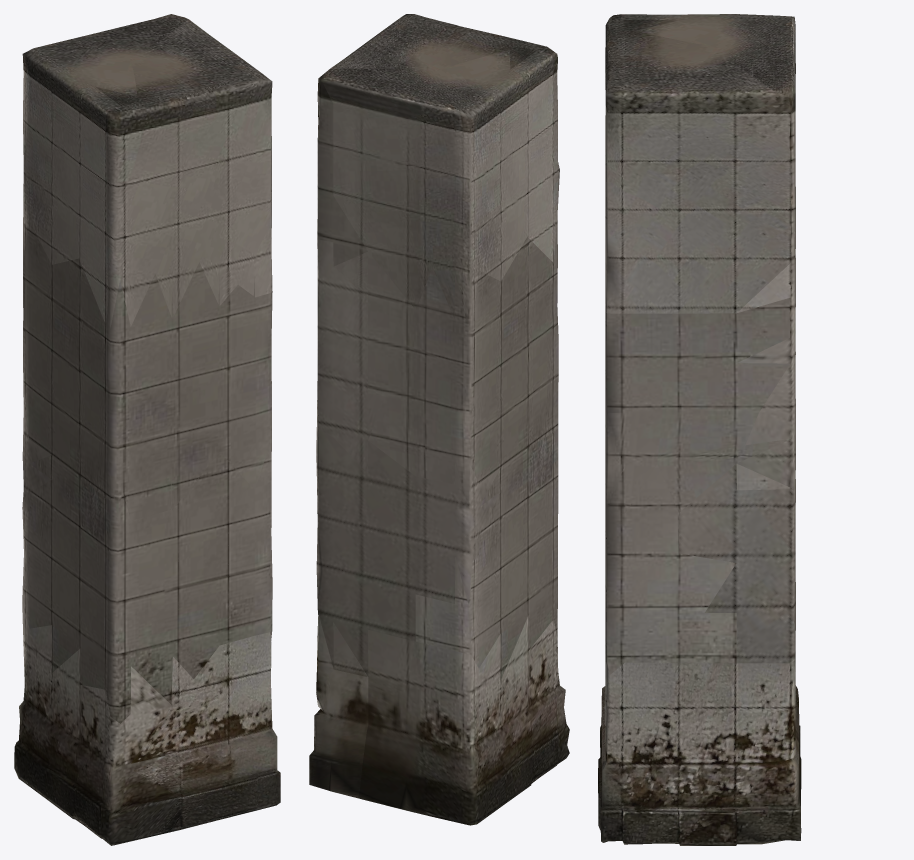
The model's file is sutun1.glb.
The picture shows the model from 3 angles, left to right: view 1: azimuth 30°, elevation 25°; view 2: azimuth 150°, elevation 25°; view 3: azimuth 270°, elevation 25°; orthographic projection. The views are drawn at different scales.
Visible parts, largest first — view 1: tripo_node_1f91a4f5-8e6b-4793-ac41-afb8d5ba1a52.030; view 2: tripo_node_1f91a4f5-8e6b-4793-ac41-afb8d5ba1a52.030; view 3: tripo_node_1f91a4f5-8e6b-4793-ac41-afb8d5ba1a52.030.
Boxes of the visible parts, box(x1,y1,x2,y2) form: tripo_node_1f91a4f5-8e6b-4793-ac41-afb8d5ba1a52.030: box(14, 14, 280, 845); tripo_node_1f91a4f5-8e6b-4793-ac41-afb8d5ba1a52.030: box(309, 14, 569, 825); tripo_node_1f91a4f5-8e6b-4793-ac41-afb8d5ba1a52.030: box(598, 14, 801, 845).
Bounding box in the file's own units: 0.2499 × 0.9966 × 0.3634.
Materials: 1 (1 with a texture image).
